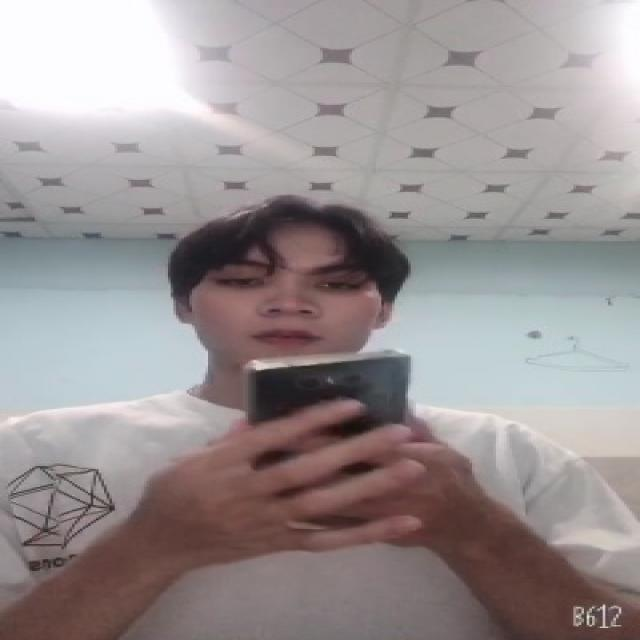Phone: (242, 347, 417, 506)
